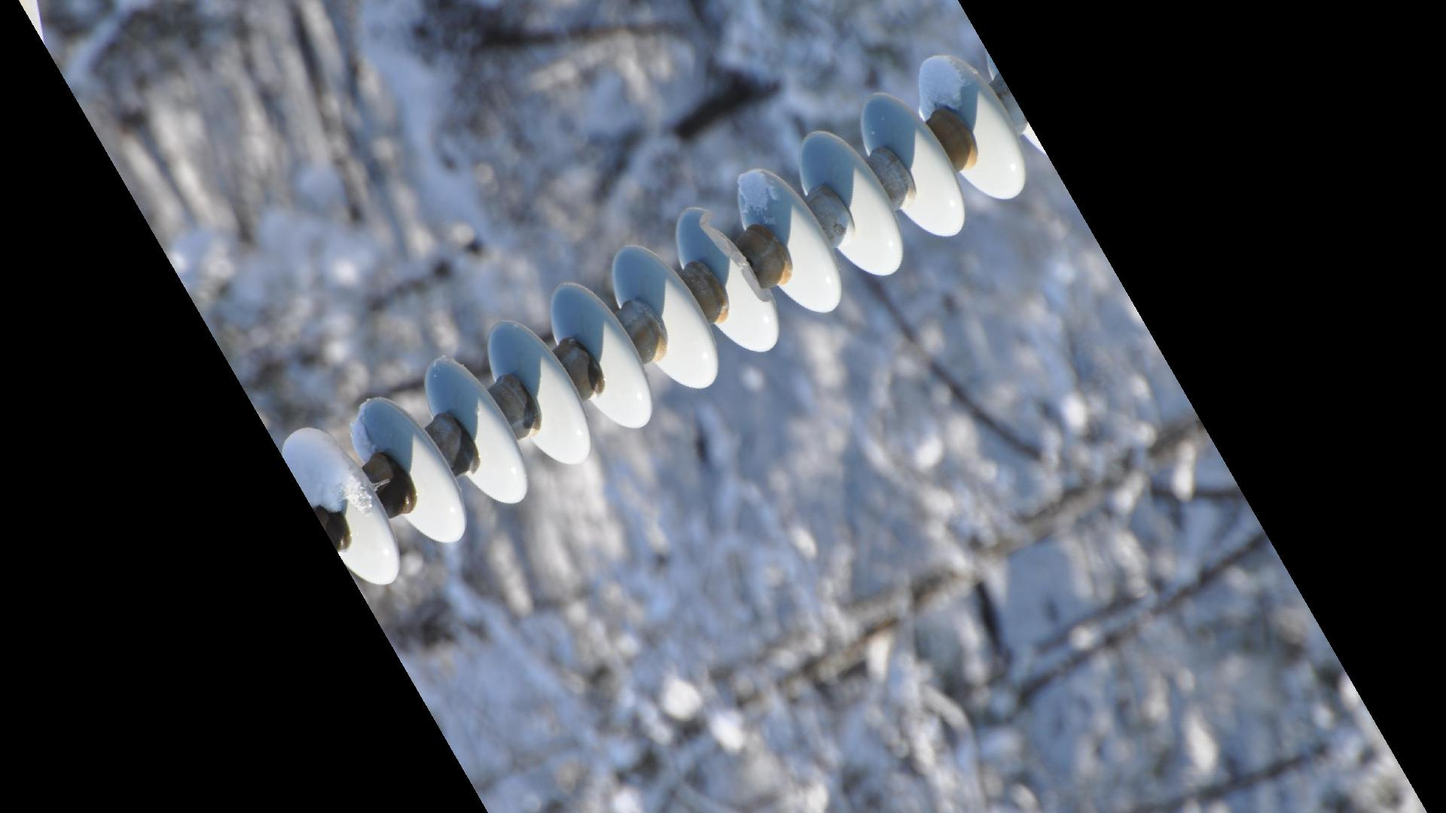insulator: (273, 50, 1036, 594)
insulator_breakage: (691, 205, 779, 310)
